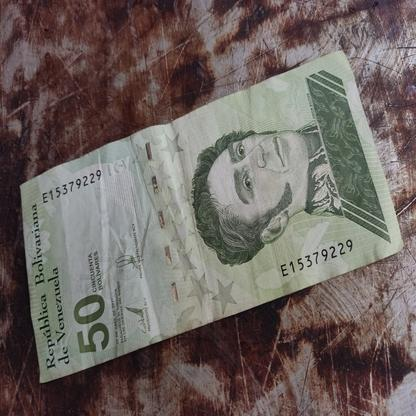fifty-front-vef: (19, 51, 405, 383)
